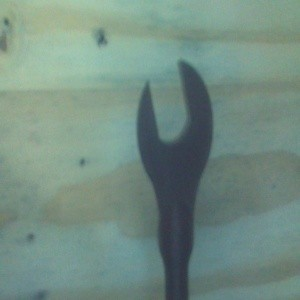spanner: (135, 57, 214, 300)
